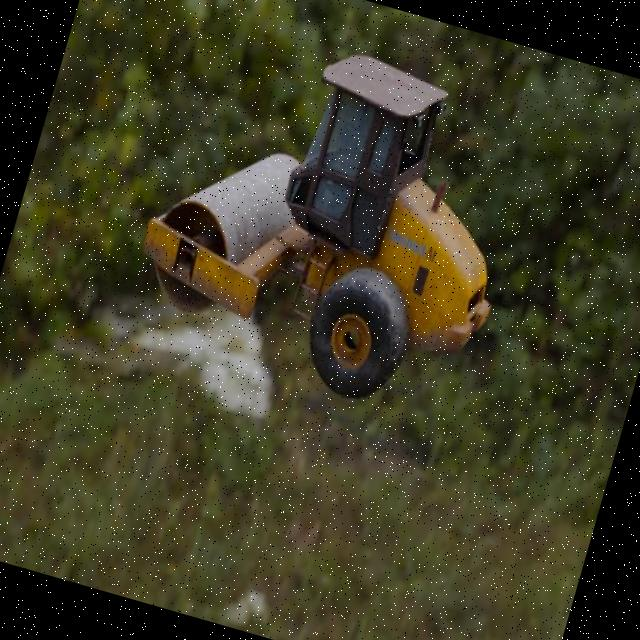Roller: (116, 9, 546, 429)
